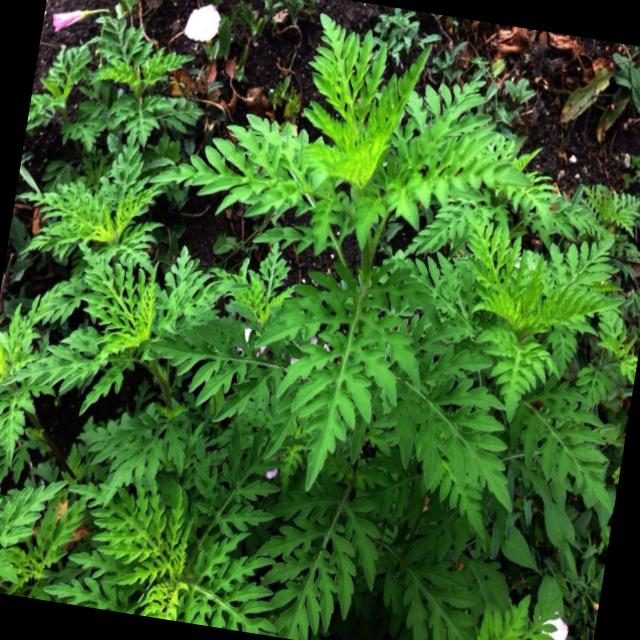ambrosia: (170, 14, 600, 504), (2, 144, 198, 422), (40, 444, 297, 636)
